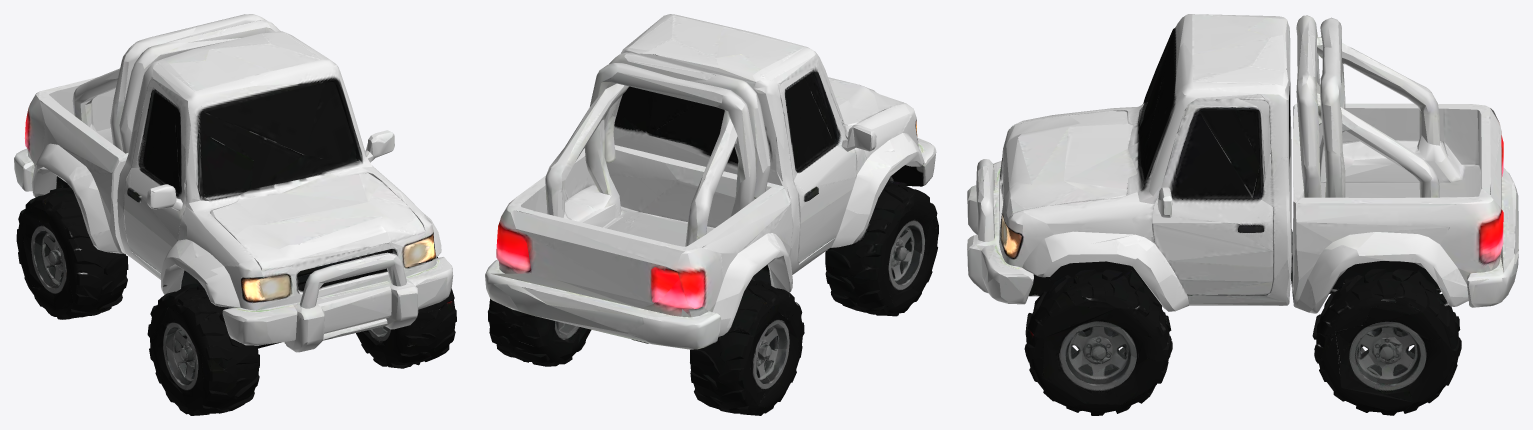
Rendered from pickup.glb.
3 renders of one model, left to right at view 1: azimuth 30°, elevation 25°; view 2: azimuth 150°, elevation 25°; view 3: azimuth 270°, elevation 25°, orthographic. The views are drawn at different scales.
Parts seen in each view (by area): view 1: pickup; view 2: pickup; view 3: pickup.
Boxes of the visible parts, x1,y1,x2,y2 form: pickup: [14, 14, 456, 415]; pickup: [485, 14, 938, 415]; pickup: [967, 14, 1518, 415].
Size of the model in its own units: 2.59 by 2.79 by 4.5.
1 material, 1 textured.
